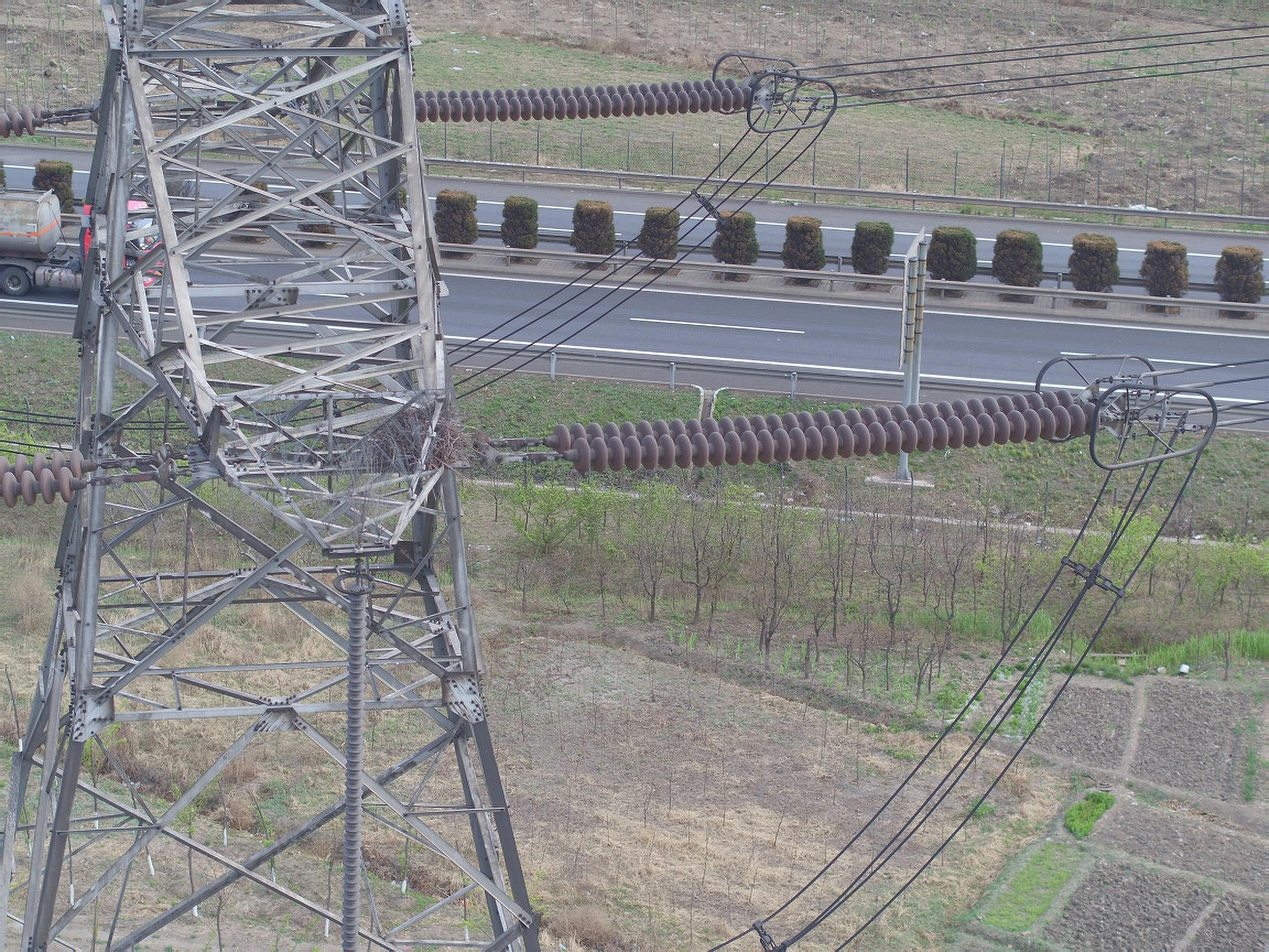insulator: (550, 386, 1105, 479), (413, 75, 758, 125), (335, 580, 376, 952), (1, 441, 90, 513), (1, 94, 52, 146)
